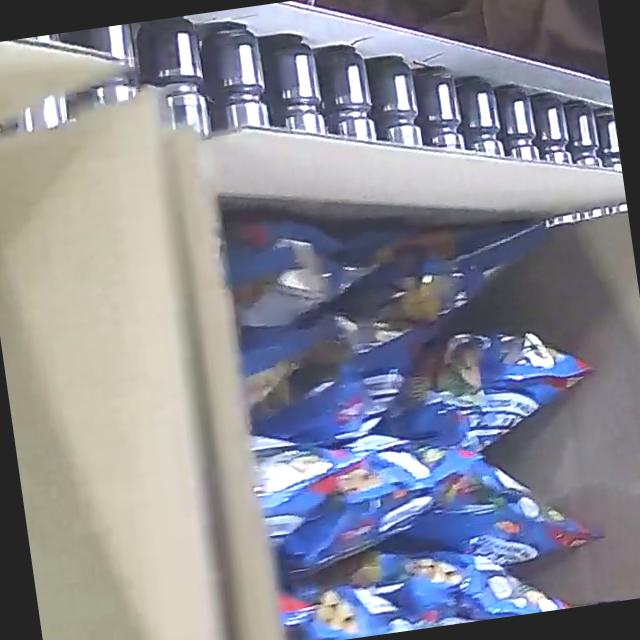paprika: (218, 176, 631, 640)
